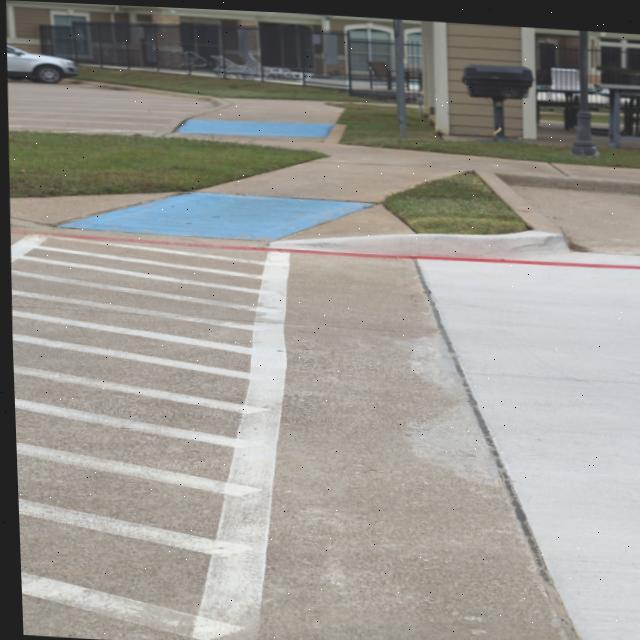Automobile: (6, 44, 76, 82)
Road: (8, 230, 640, 640), (6, 81, 210, 133), (510, 180, 640, 248)
Sidewalk: (8, 96, 640, 239)
